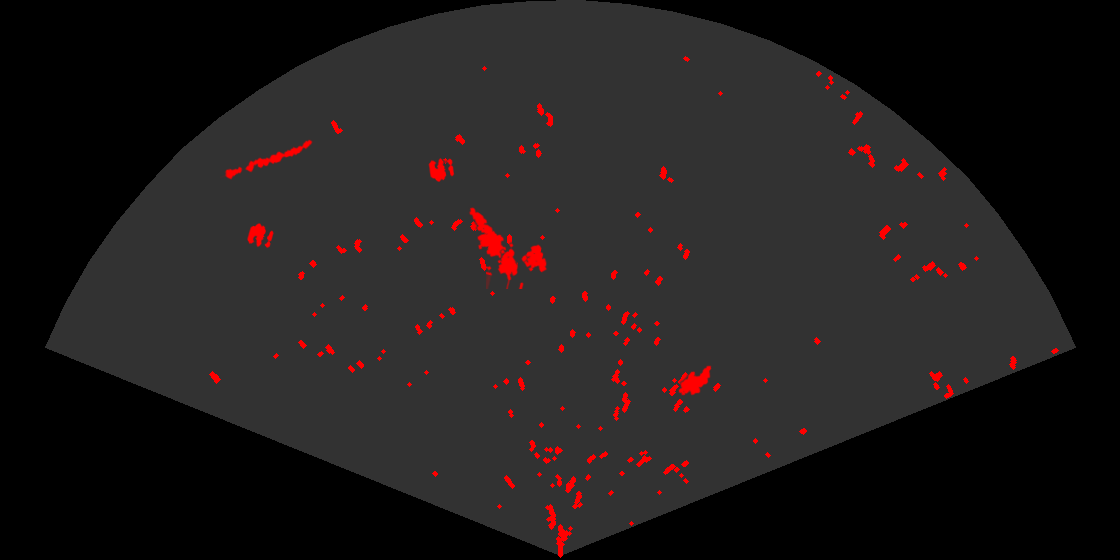AUV: (677, 364, 713, 397)
ball: (246, 222, 275, 250), (427, 156, 456, 183)
cage: (486, 241, 549, 289)
chain: (220, 138, 314, 181)
frogman: (467, 206, 518, 267)
